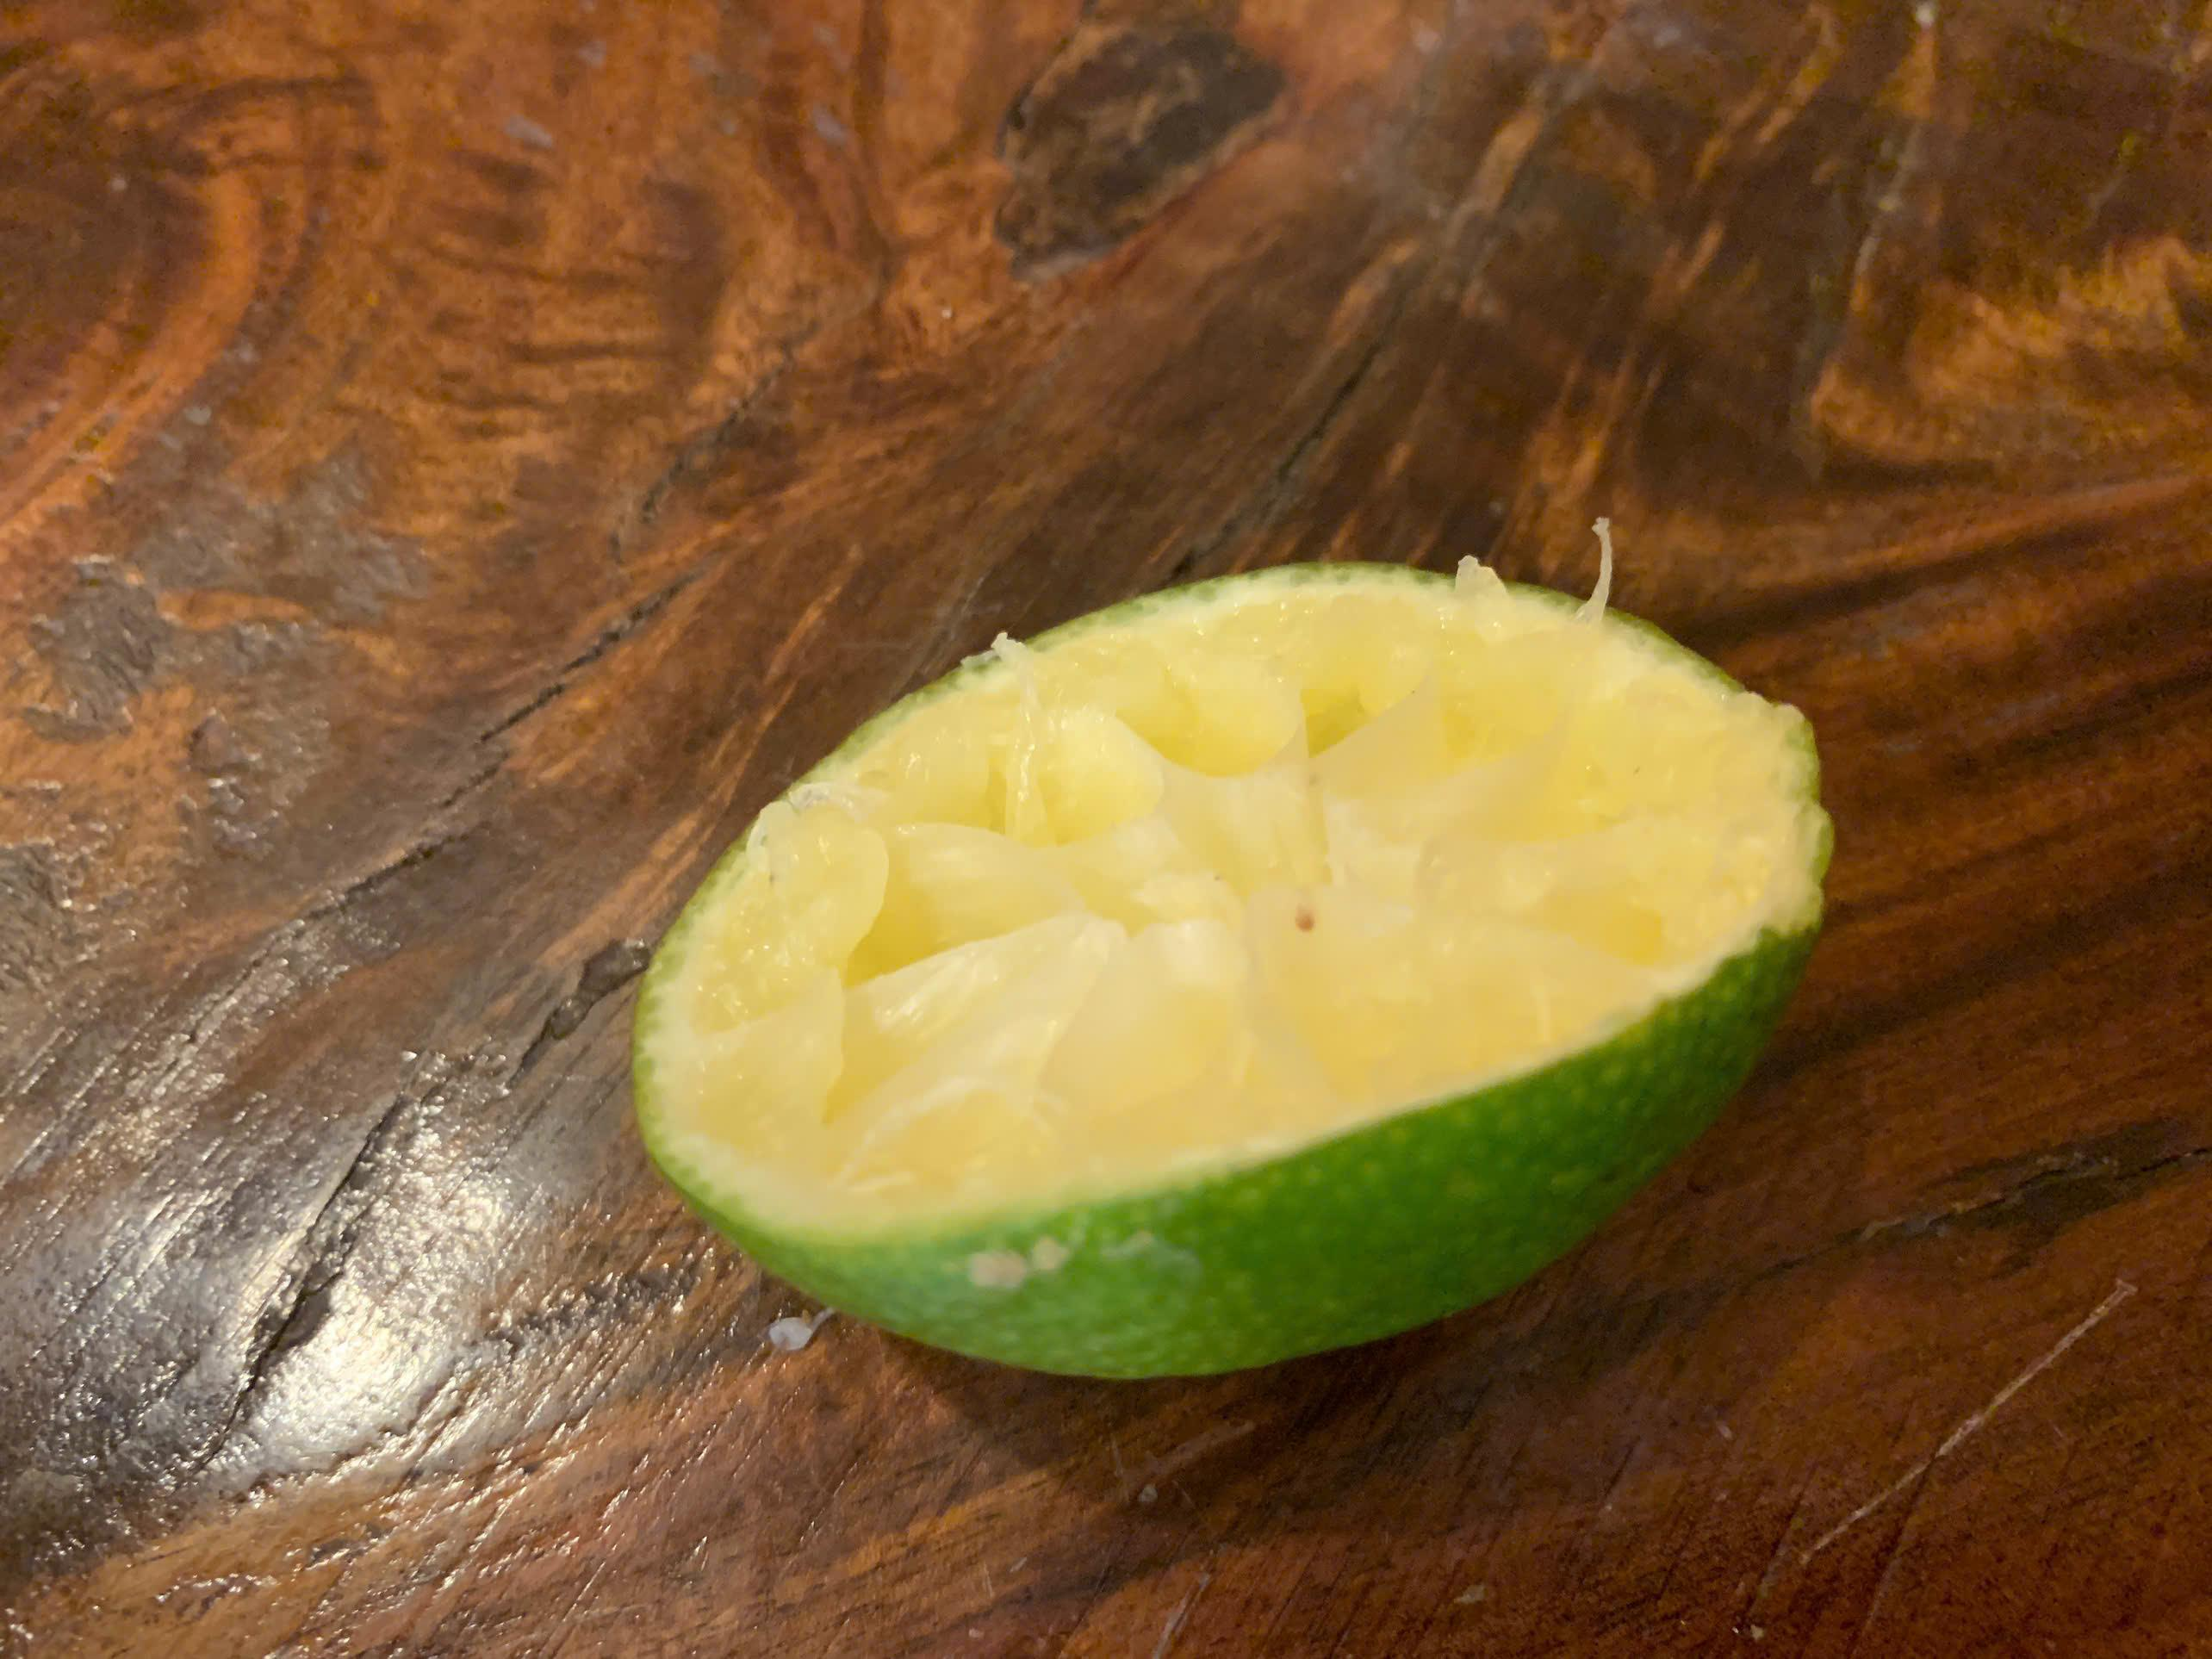Huu co: (625, 554, 1836, 1359)
